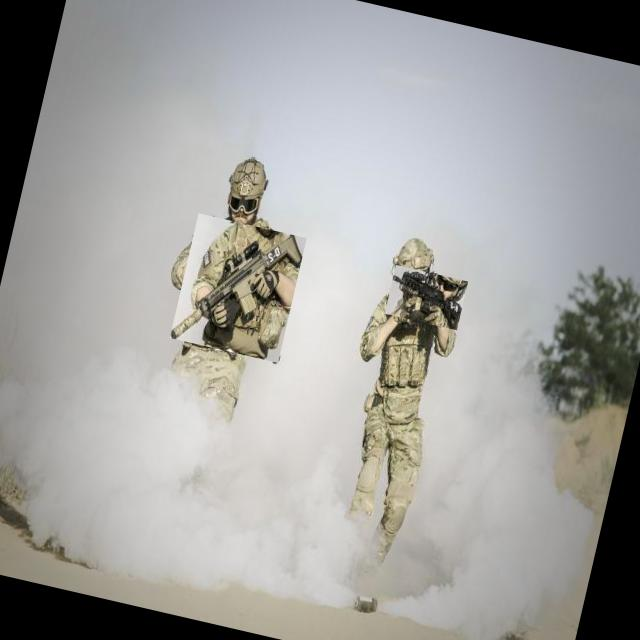Gun: (172, 236, 301, 339), (393, 271, 461, 329)
